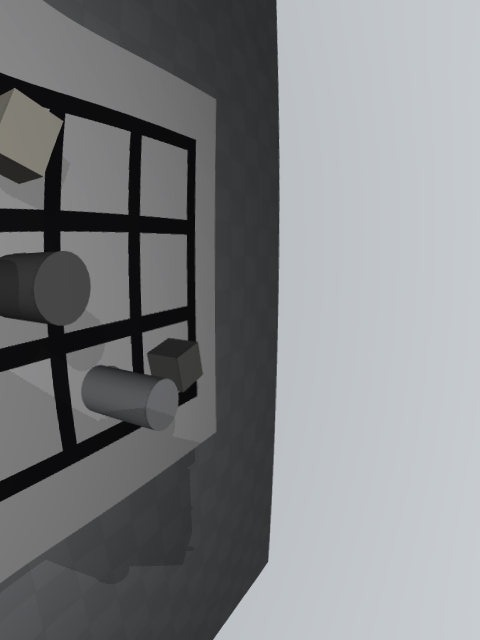can: (81, 365, 179, 431)
cube: (147, 338, 203, 392)
cylinder: (0, 251, 90, 326)
foam: (0, 88, 63, 184)
